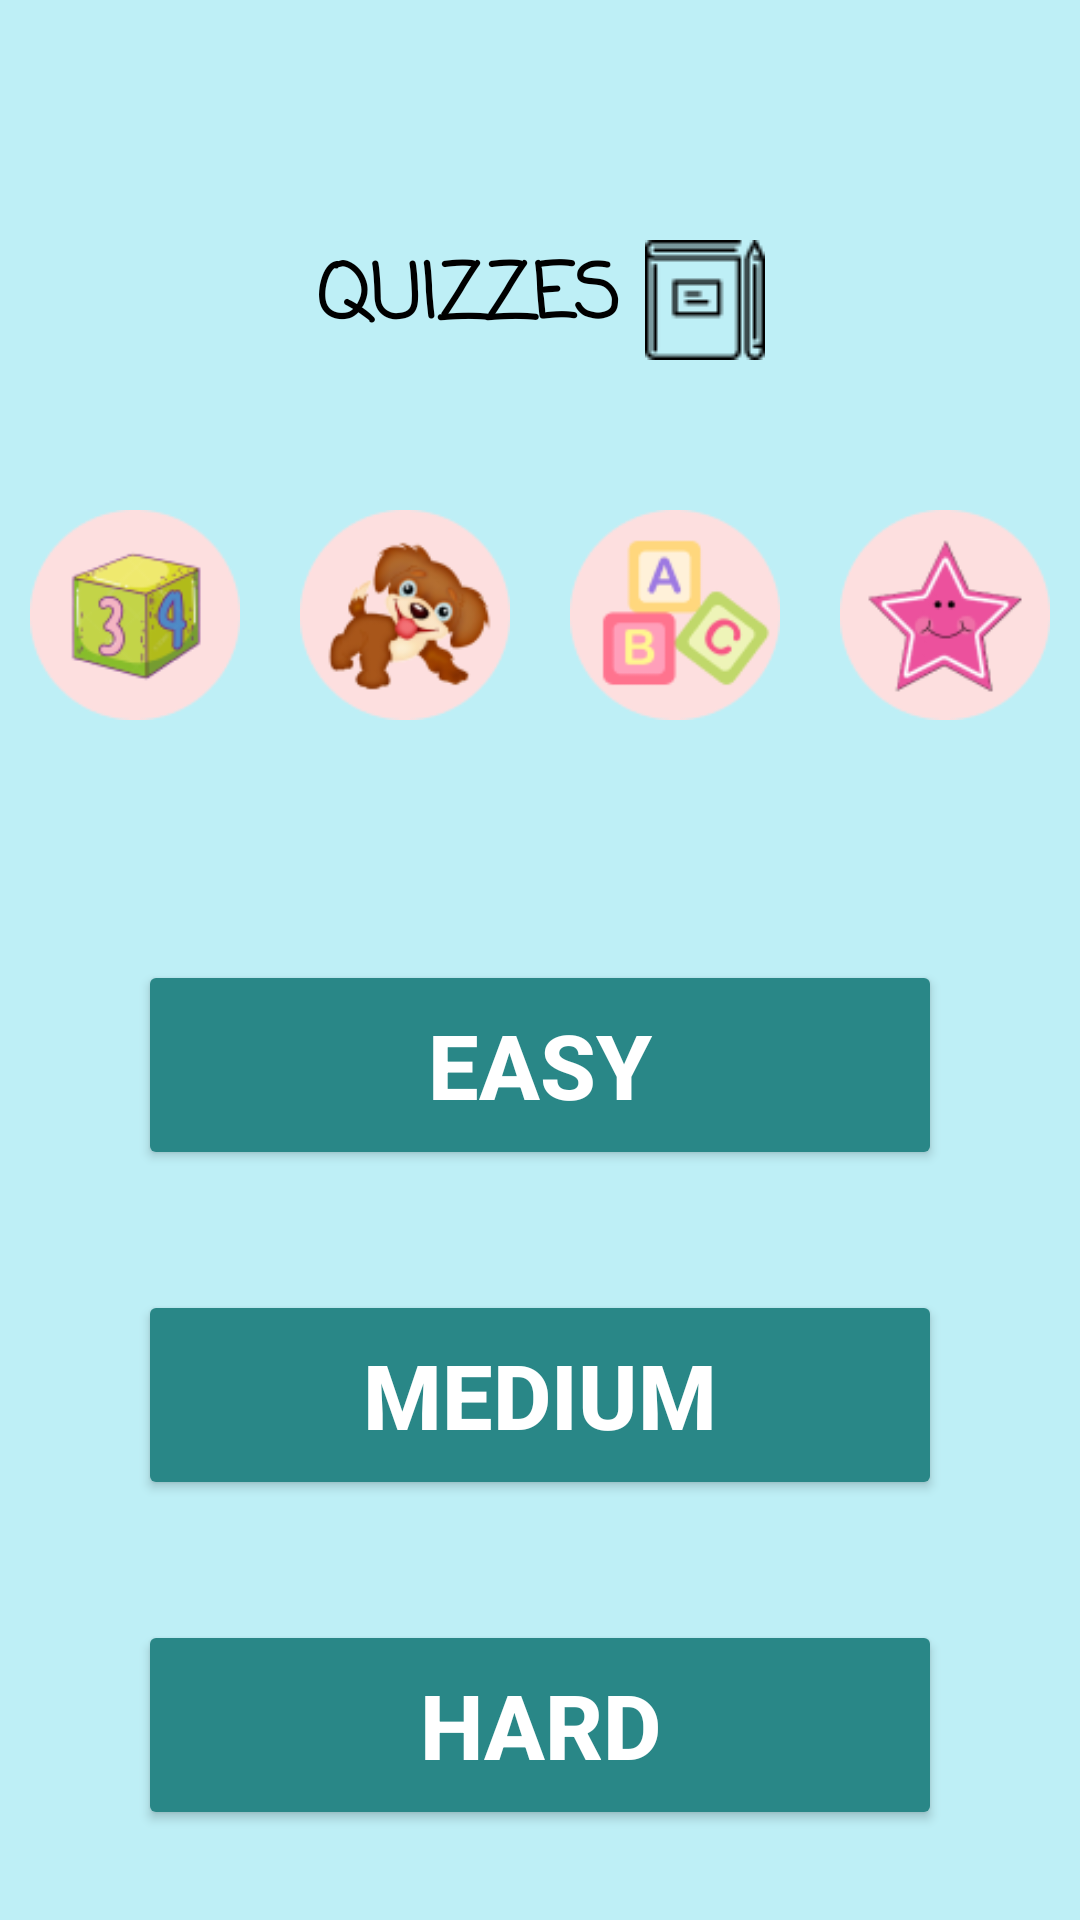

Icon click points for this 1080 x 1920 phone screenshot, format (x,y):
cube: (135,615)
dog: (405,615)
star: (945,615)
